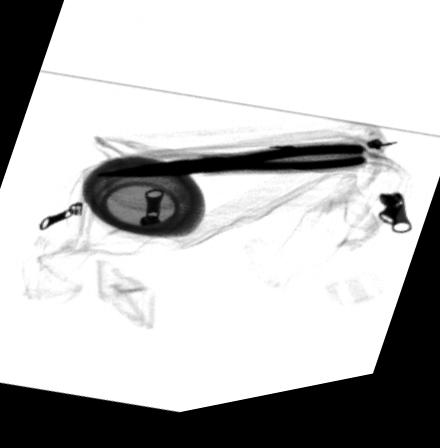Pliers: (93, 154, 368, 184)
